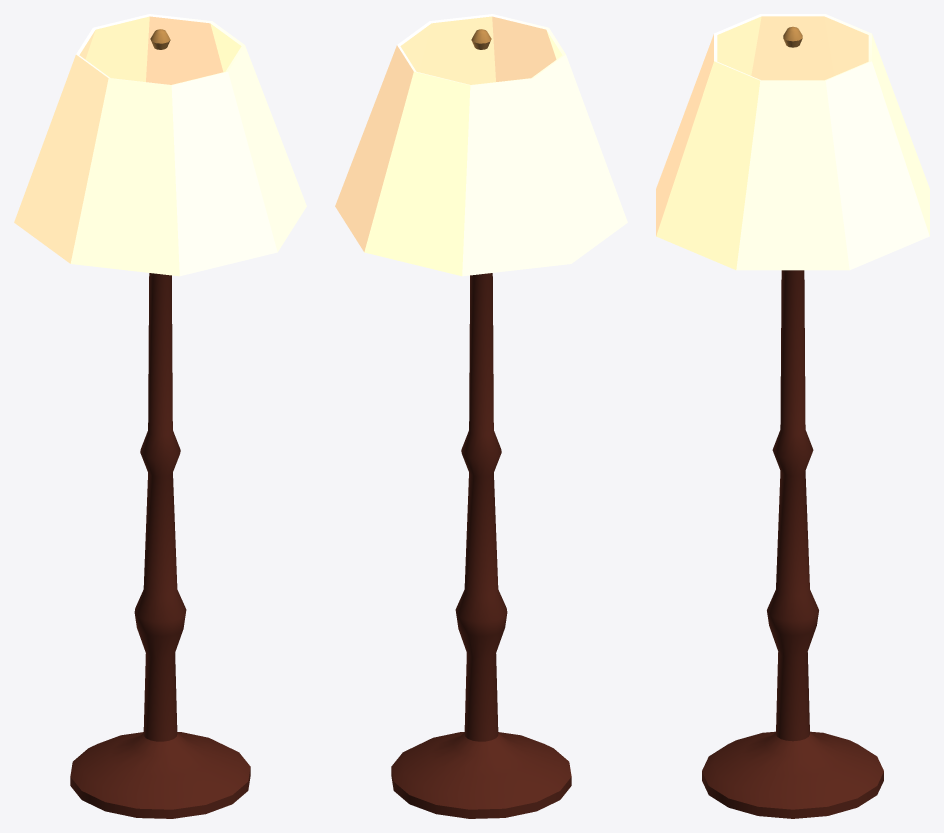
Rendered from FloorLamp.glb.
3 views of the same model, side by side, from view 1: azimuth 30°, elevation 25°; view 2: azimuth 150°, elevation 25°; view 3: azimuth 270°, elevation 25° (orthographic).
Parts seen in each view (by area): view 1: FloorLamp_Shade, FloorLamp_Body; view 2: FloorLamp_Shade, FloorLamp_Body; view 3: FloorLamp_Shade, FloorLamp_Body.
Boxes of the visible parts, <box> form: FloorLamp_Shade: <box>14,14,306,276</box>; FloorLamp_Body: <box>70,273,250,818</box>; FloorLamp_Shade: <box>335,14,627,276</box>; FloorLamp_Body: <box>391,273,571,818</box>; FloorLamp_Shade: <box>656,14,929,270</box>; FloorLamp_Body: <box>702,270,883,818</box>.
Size of the model in its own units: 0.4804 by 1.46 by 0.4804.
